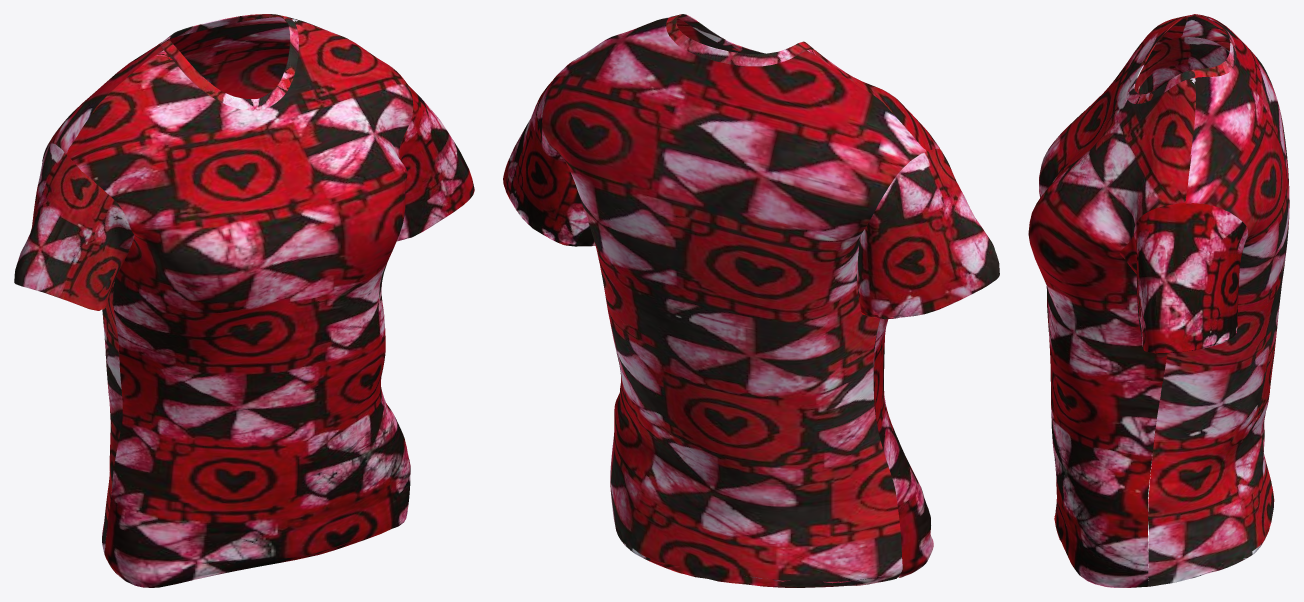
The model's file is tshirt_short_two.glb.
3 renders of one model, left to right at view 1: azimuth 30°, elevation 25°; view 2: azimuth 150°, elevation 25°; view 3: azimuth 270°, elevation 25°, orthographic. The views are drawn at different scales.
Parts seen in each view (by area): view 1: all; view 2: all; view 3: all.
Part boxes in pixels (left/top/right/bottom): all: left=14, top=14, right=474, bottom=587; all: left=503, top=14, right=999, bottom=587; all: left=1028, top=14, right=1289, bottom=587.
Bounding box in the file's own units: 0.5781 × 0.5956 × 0.2882.
1 material, 1 textured.
